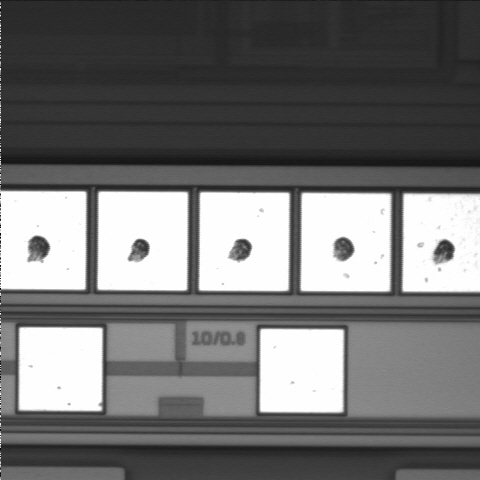pad: (199, 192, 289, 291), (98, 192, 188, 290), (301, 193, 391, 291), (19, 327, 102, 411), (260, 329, 343, 412)
